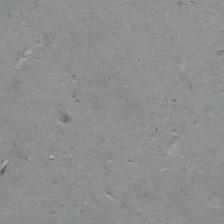Non_Crack: (62, 24, 215, 209)
